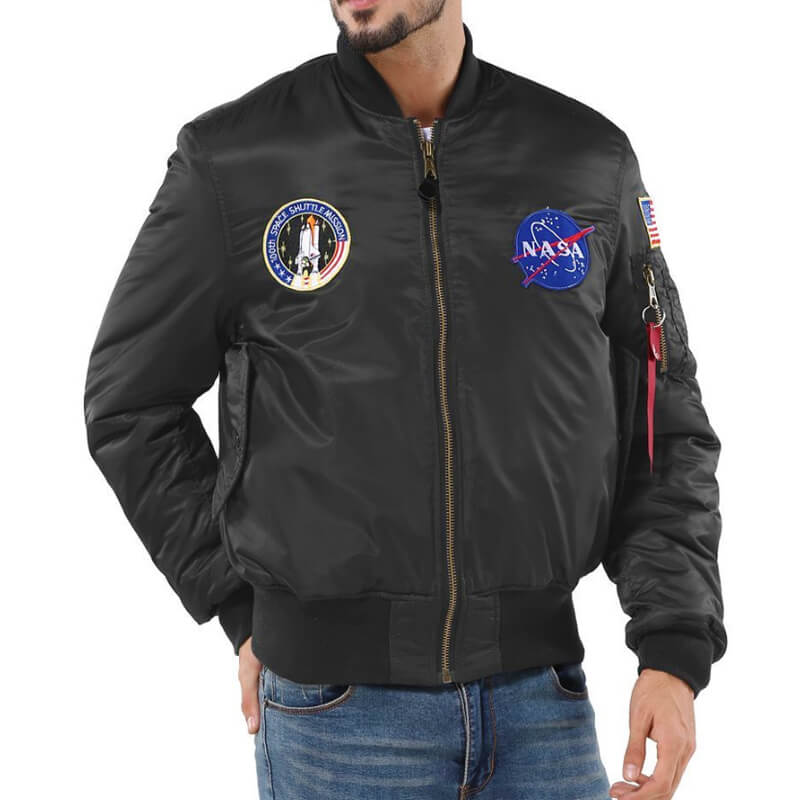NASA: (506, 205, 601, 291)
